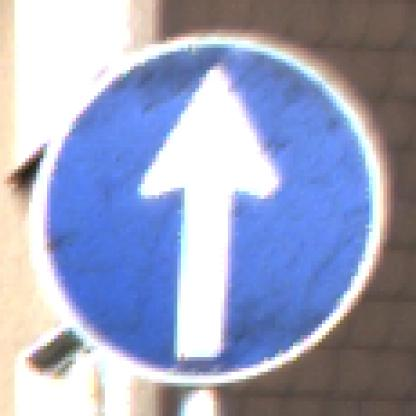AheadOnly: (37, 38, 381, 384)
